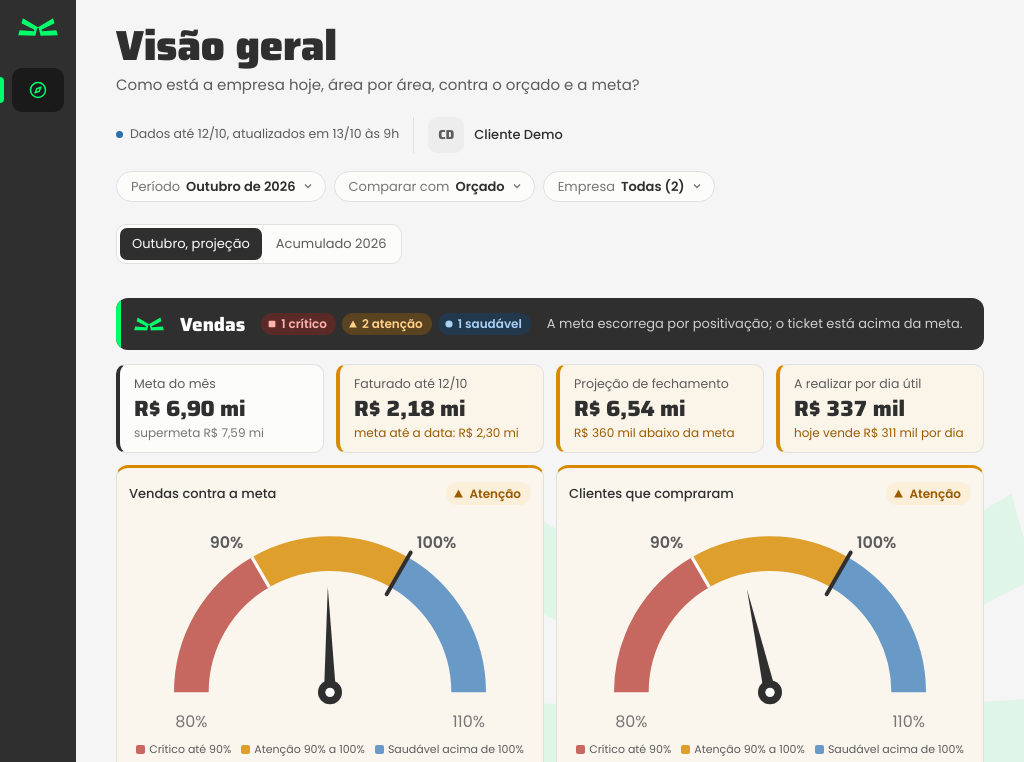
Test case: Visão geral › mostra "na média" quando o delta é zero
Step 1. Click the button "Acumulado 2026" → (331, 244), box x1=264 y1=228 x2=398 y2=260
(page scrolled)
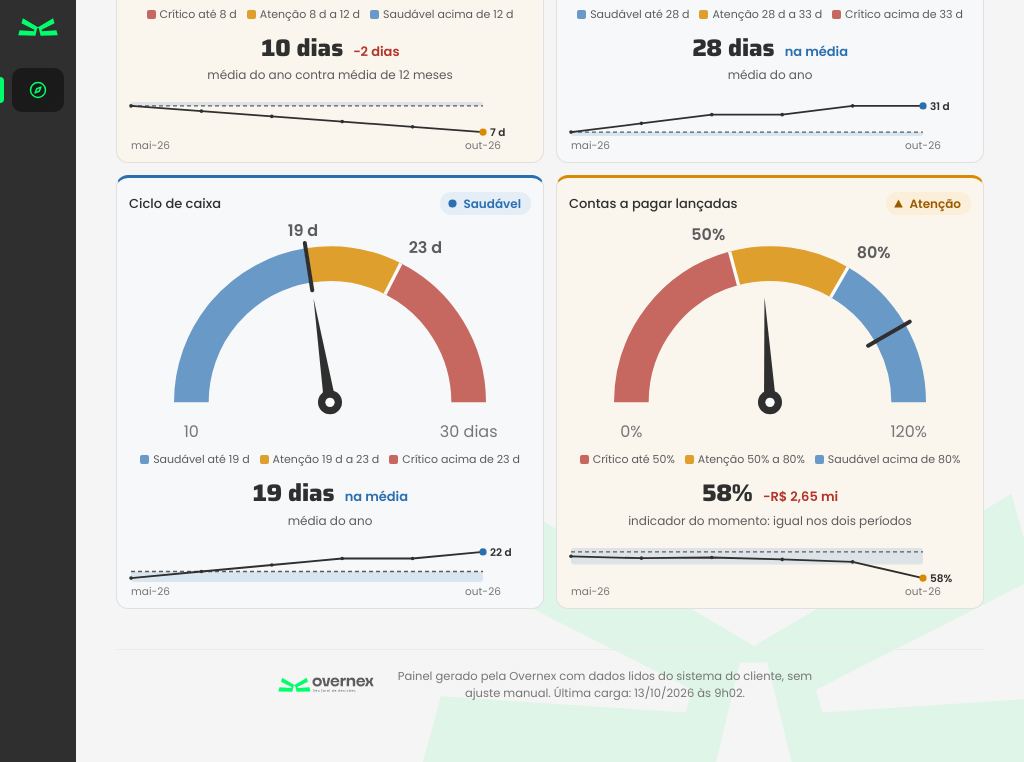
Expected: the text "na média" next to "19 dias" is shown, x1=345 y1=487 x2=408 y2=506
